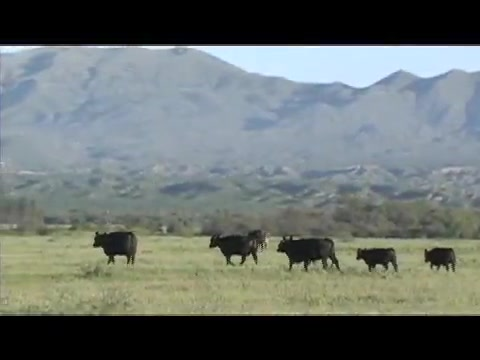cow: (276, 235, 343, 274), (208, 234, 261, 269), (94, 231, 138, 266), (354, 247, 400, 275), (424, 247, 458, 274)
